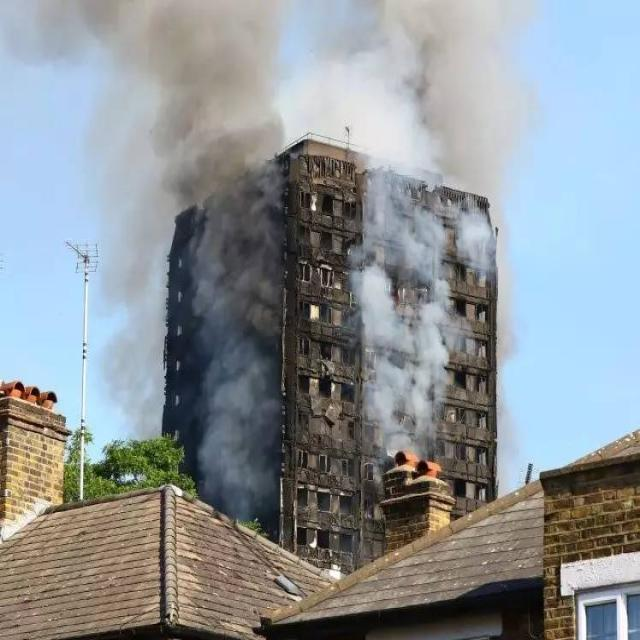Smoke: (162, 0, 286, 519), (361, 142, 488, 448), (297, 2, 525, 138)
